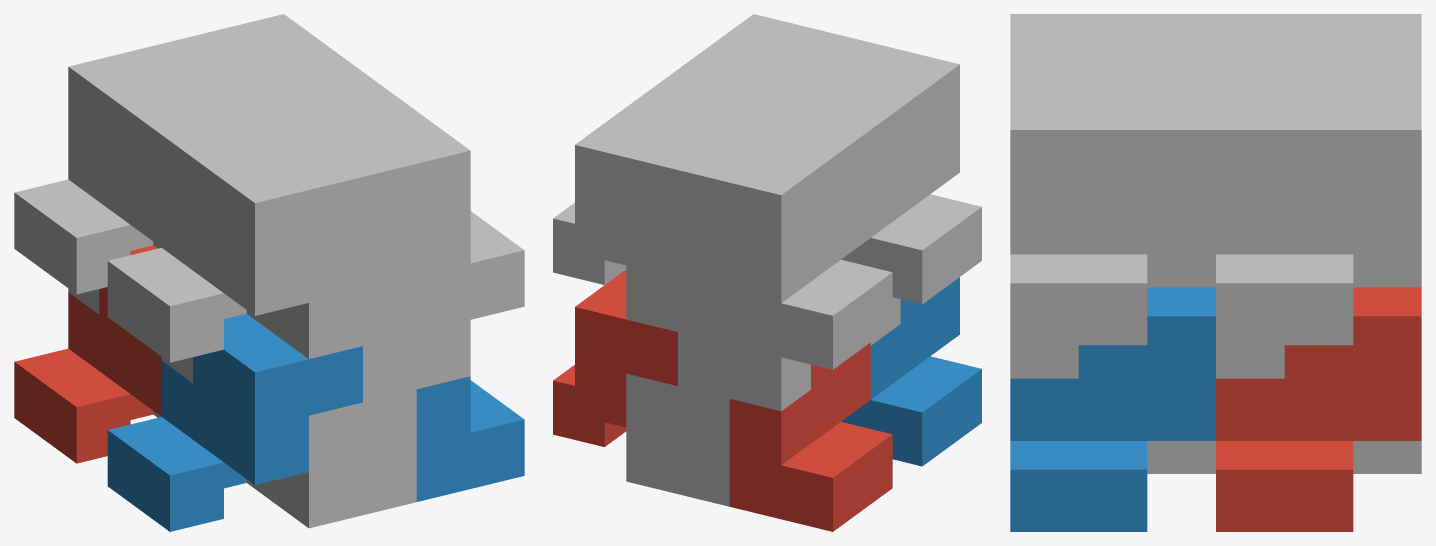
The model's file is tiling.obj.
3 renders of one model, left to right at view 1: azimuth 30°, elevation 25°; view 2: azimuth 150°, elevation 25°; view 3: azimuth 270°, elevation 25°, orthographic. The views are drawn at different scales.
Visible parts, largest first — view 1: copy_1_domain_4, copy_1_domain_2, copy_1_domain_3, copy_2_domain_4, copy_2_domain_8, copy_1_domain_1, copy_1_domain_8, copy_2_domain_2, copy_2_domain_6, copy_1_domain_6, copy_2_domain_3, copy_1_domain_7 (+1 smaller); view 2: copy_1_domain_3, copy_1_domain_4, copy_1_domain_1, copy_2_domain_7, copy_2_domain_3, copy_1_domain_2, copy_1_domain_7, copy_2_domain_5, copy_2_domain_1, copy_1_domain_5, copy_2_domain_4, copy_2_domain_8 (+1 smaller); view 3: copy_2_domain_7, copy_2_domain_8, copy_2_domain_5, copy_2_domain_6, copy_1_domain_7, copy_1_domain_8, copy_1_domain_3, copy_1_domain_4, copy_2_domain_3, copy_2_domain_4, copy_1_domain_5, copy_1_domain_6.
Part boxes in pixels (left/top/right/bottom): copy_1_domain_4: left=107, top=144, right=362, bottom=362; copy_1_domain_2: left=107, top=313, right=362, bottom=531; copy_1_domain_3: left=14, top=76, right=268, bottom=294; copy_2_domain_4: left=161, top=108, right=416, bottom=358; copy_2_domain_8: left=270, top=82, right=524, bottom=332; copy_1_domain_1: left=14, top=245, right=161, bottom=463; copy_1_domain_8: left=246, top=118, right=470, bottom=336; copy_2_domain_2: left=161, top=357, right=416, bottom=528; copy_2_domain_6: left=416, top=376, right=524, bottom=501; copy_1_domain_6: left=246, top=320, right=470, bottom=505; copy_2_domain_3: left=68, top=40, right=237, bottom=145; copy_1_domain_7: left=153, top=50, right=376, bottom=248; copy_1_domain_3: left=729, top=104, right=892, bottom=369; copy_1_domain_4: left=827, top=39, right=981, bottom=304; copy_1_domain_1: left=729, top=342, right=892, bottom=531; copy_2_domain_7: left=553, top=101, right=707, bottom=284; copy_2_domain_3: left=678, top=126, right=810, bottom=290; copy_1_domain_2: left=841, top=277, right=981, bottom=466; copy_1_domain_7: left=626, top=79, right=766, bottom=344; copy_2_domain_5: left=553, top=269, right=677, bottom=446; copy_2_domain_1: left=678, top=332, right=810, bottom=452; copy_1_domain_5: left=626, top=373, right=729, bottom=506; copy_2_domain_4: left=768, top=61, right=900, bottom=183; copy_2_domain_8: left=664, top=36, right=796, bottom=104; copy_2_domain_7: left=1216, top=72, right=1421, bottom=345; copy_2_domain_8: left=1010, top=72, right=1215, bottom=345; copy_2_domain_5: left=1216, top=287, right=1421, bottom=531; copy_2_domain_6: left=1010, top=287, right=1215, bottom=531; copy_1_domain_7: left=1216, top=72, right=1421, bottom=287; copy_1_domain_8: left=1010, top=72, right=1215, bottom=287; copy_1_domain_3: left=1216, top=14, right=1353, bottom=71; copy_1_domain_4: left=1010, top=14, right=1147, bottom=71; copy_2_domain_3: left=1284, top=14, right=1421, bottom=71; copy_2_domain_4: left=1078, top=14, right=1215, bottom=71; copy_1_domain_5: left=1216, top=345, right=1421, bottom=473; copy_1_domain_6: left=1010, top=345, right=1215, bottom=473.
Bounding box in the file's own units: 6 × 6 × 6.
